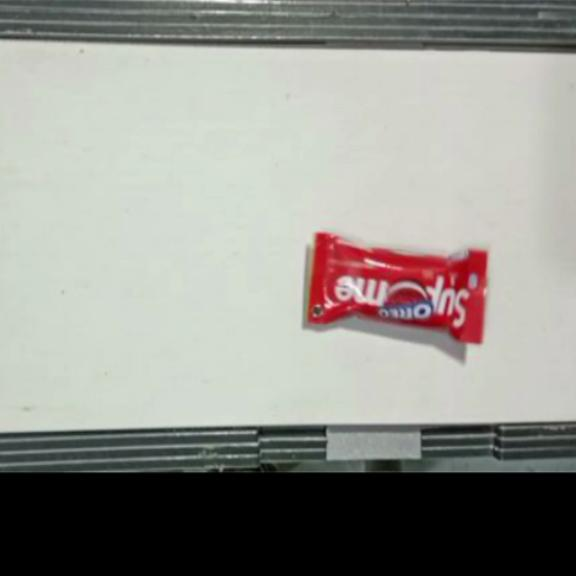Plastik: (306, 233, 487, 344)
